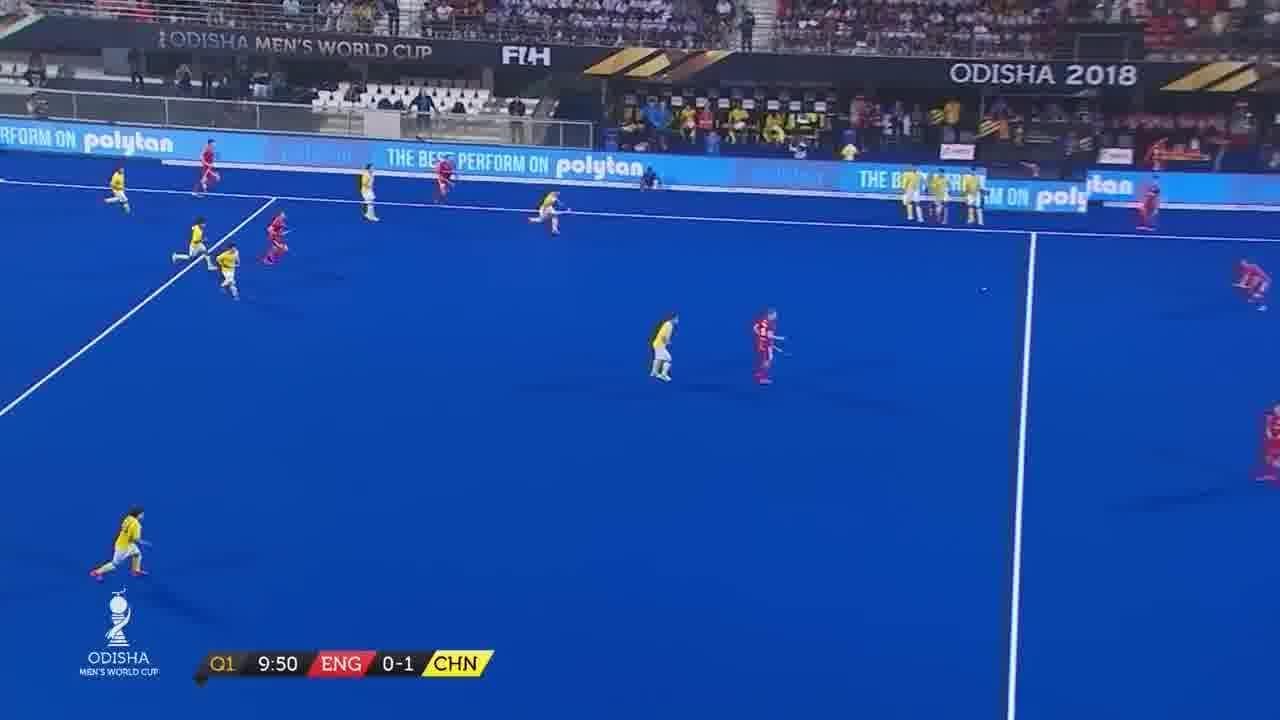ball: (977, 282, 992, 296)
